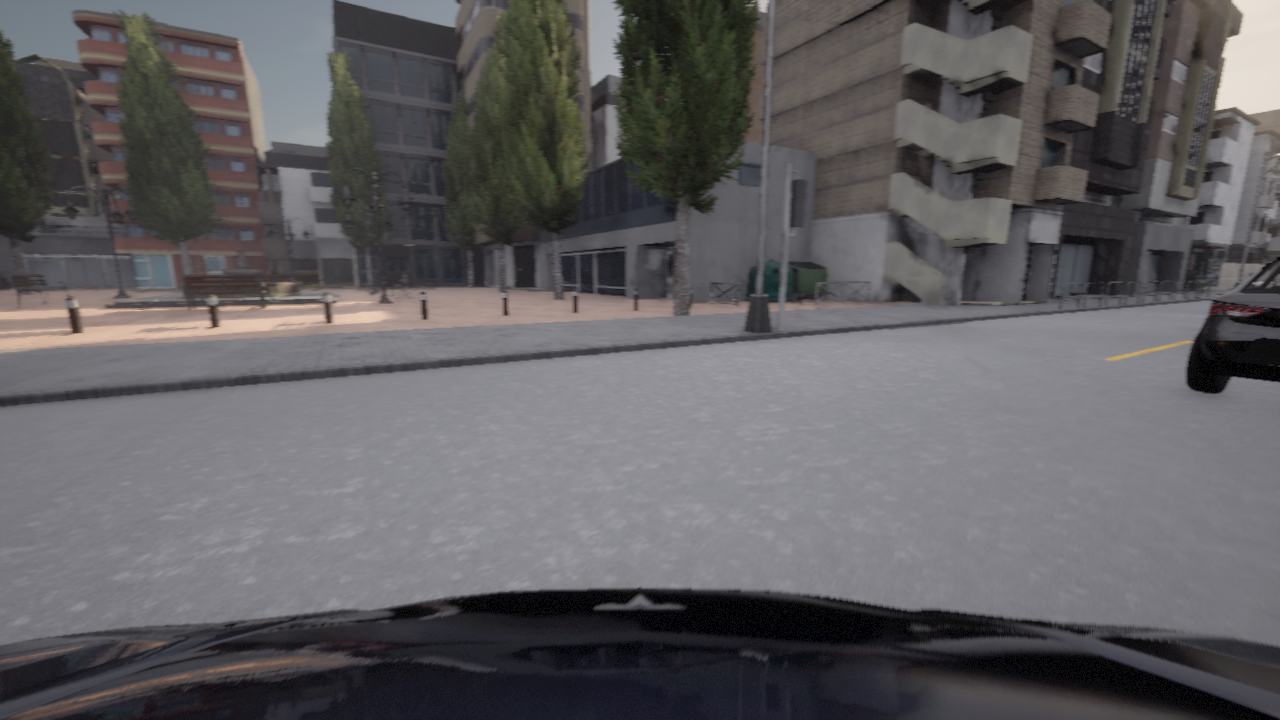cyclist: (0, 588, 1279, 719), (1186, 256, 1279, 392)
